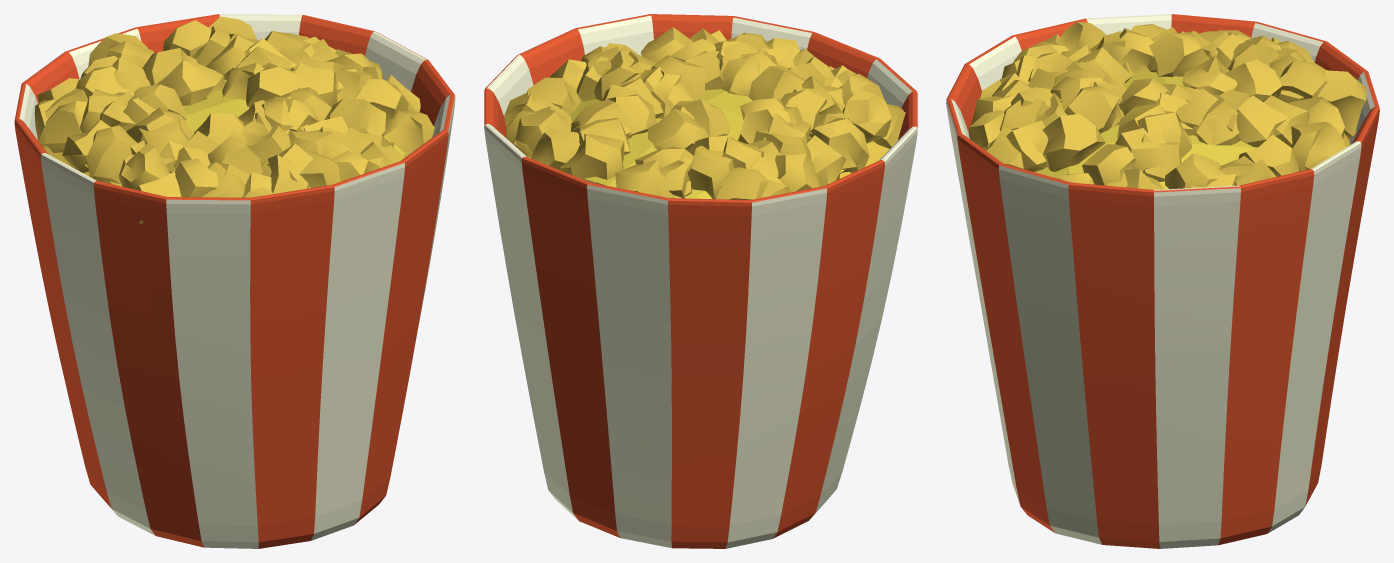
Rendered from popcorn.glb.
The picture shows the model from 3 angles, left to right: view 1: azimuth 30°, elevation 25°; view 2: azimuth 150°, elevation 25°; view 3: azimuth 270°, elevation 25°; orthographic projection.
Parts seen in each view (by area): view 1: pop_corn; view 2: pop_corn; view 3: pop_corn.
Boxes of the visible parts, x1,y1,x2,y2 form: pop_corn: (14,14,455,548); pop_corn: (484,14,917,548); pop_corn: (946,14,1379,548).
Size of the model in its own units: 1.59 by 1.7 by 1.55.
